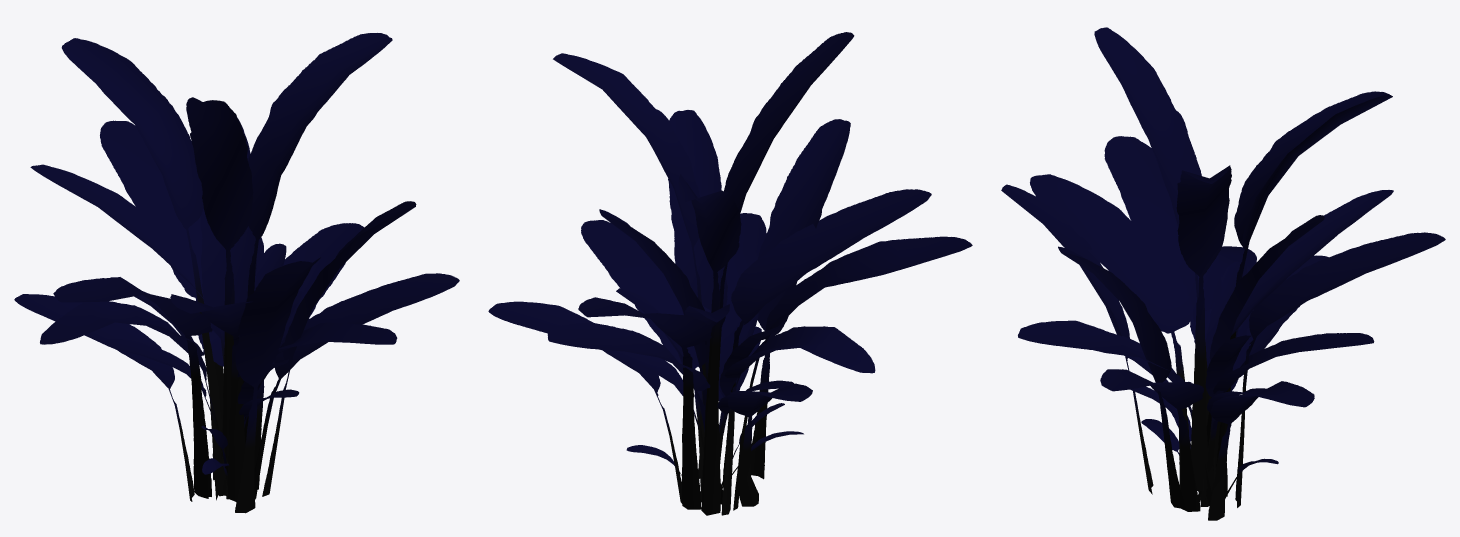
The model's file is SM_Foliage_PalmPlantA_05.fbx.
3 views of the same model, side by side, from view 1: azimuth 30°, elevation 25°; view 2: azimuth 150°, elevation 25°; view 3: azimuth 270°, elevation 25° (orthographic). The views are drawn at different scales.
Parts seen in each view (by area): view 1: SM_Foliage_PalmPlantA_05; view 2: SM_Foliage_PalmPlantA_05; view 3: SM_Foliage_PalmPlantA_05.
Part boxes in pixels (left/top/right/bottom): SM_Foliage_PalmPlantA_05: left=14, top=33, right=459, bottom=513; SM_Foliage_PalmPlantA_05: left=488, top=32, right=972, bottom=515; SM_Foliage_PalmPlantA_05: left=1001, top=27, right=1445, bottom=520.
Size of the model in its own units: 443 by 439 by 492.
